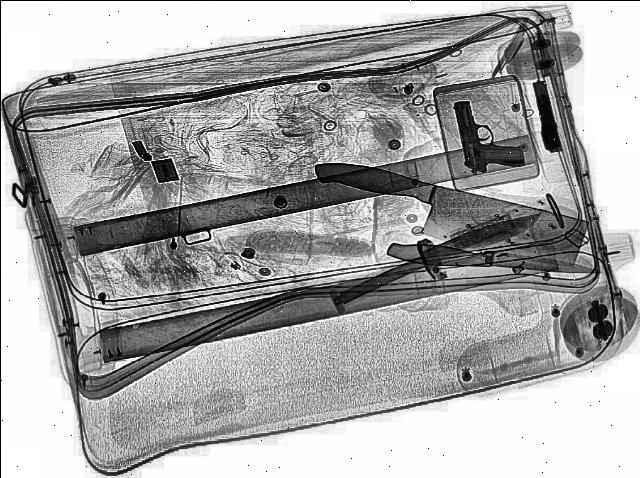Gun: (450, 96, 532, 176), (526, 80, 566, 154)
Knife: (294, 156, 596, 270), (328, 205, 546, 310), (386, 239, 604, 285)
